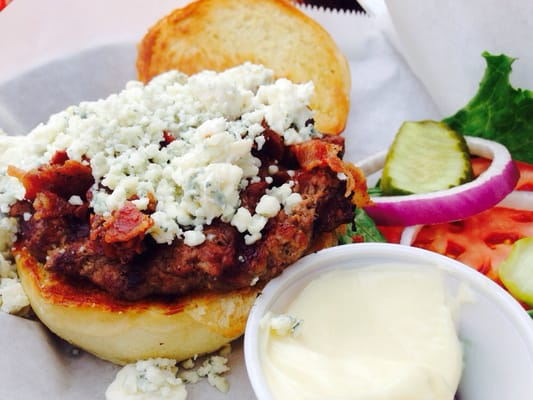soup: (4, 0, 381, 370)
sushi: (244, 242, 533, 400), (364, 125, 520, 226)
